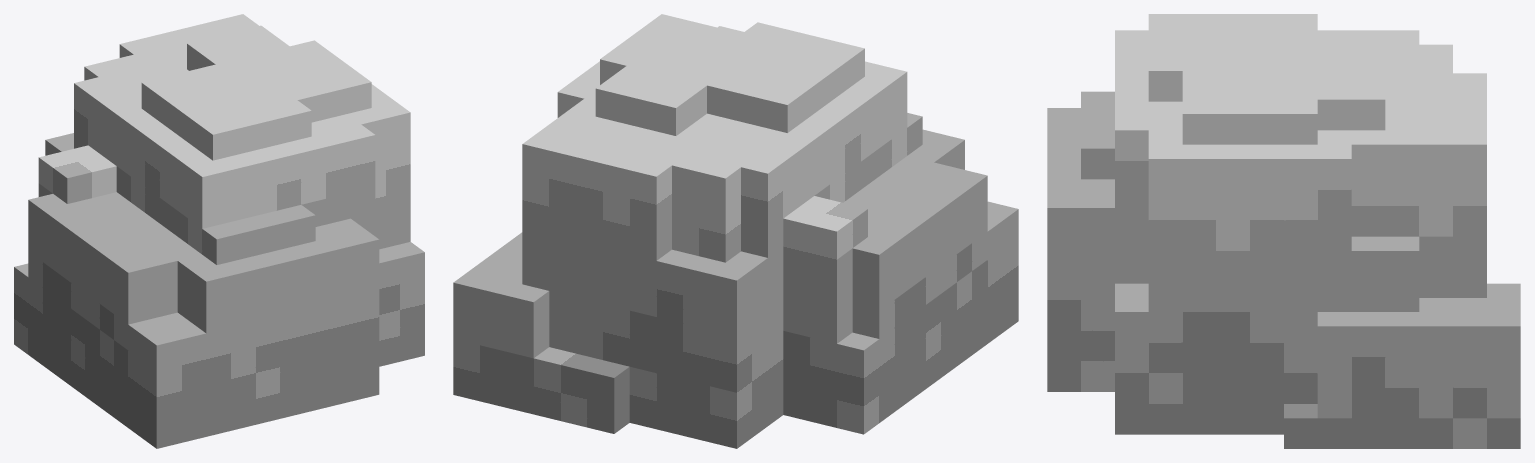
Rendered from Rock1.fbx.
3 renders of one model, left to right at view 1: azimuth 30°, elevation 25°; view 2: azimuth 150°, elevation 25°; view 3: azimuth 270°, elevation 25°, orthographic. The views are drawn at different scales.
Parts seen in each view (by area): view 1: Rock1; view 2: Rock1; view 3: Rock1.
Part boxes in pixels (x1=…): Rock1: x1=14, y1=14, x2=424, y2=448; Rock1: x1=453, y1=14, x2=1018, y2=448; Rock1: x1=1047, y1=14, x2=1520, y2=448.
Size of the model in its own units: 13 by 10 by 14.
1 material, 1 textured.
